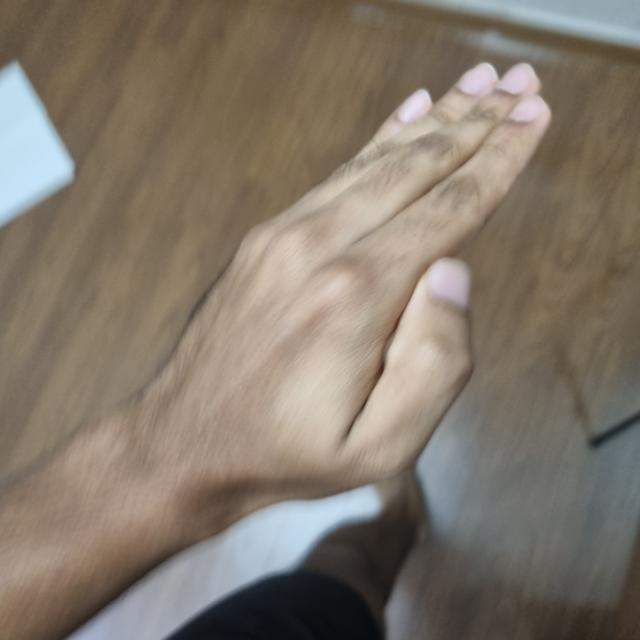Paper: (143, 200, 473, 501)
